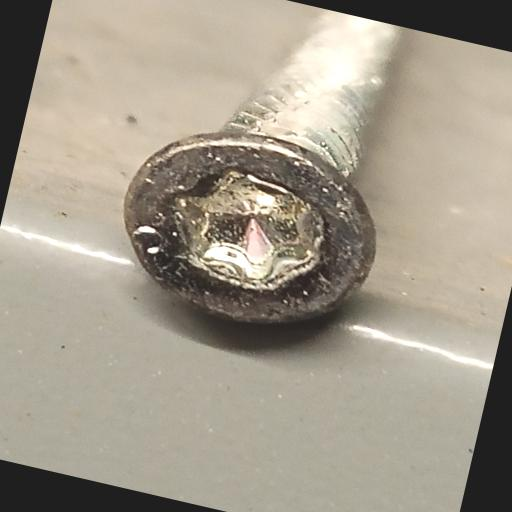Torx: (93, 98, 408, 370)
